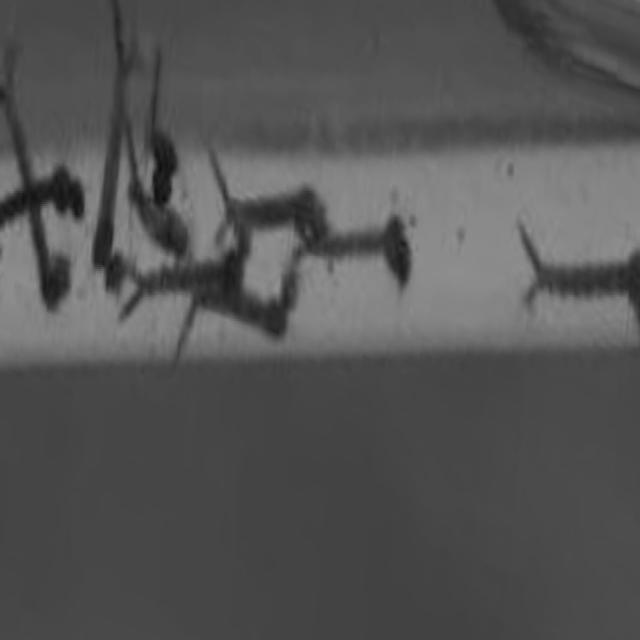larvas: (1, 87, 77, 318), (92, 3, 143, 272), (518, 224, 640, 310), (128, 132, 190, 265), (219, 173, 325, 229), (327, 218, 413, 283), (0, 162, 85, 226), (126, 252, 240, 296), (199, 288, 294, 333), (152, 65, 176, 202)
